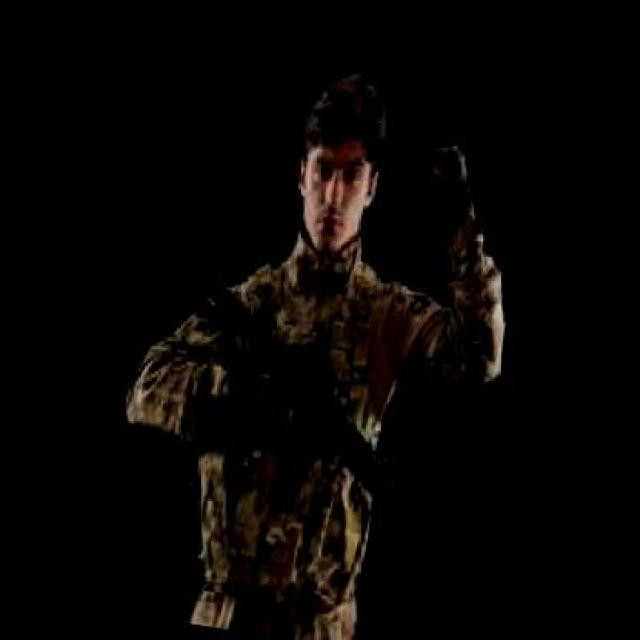MIL_Pax: (91, 37, 549, 638)
